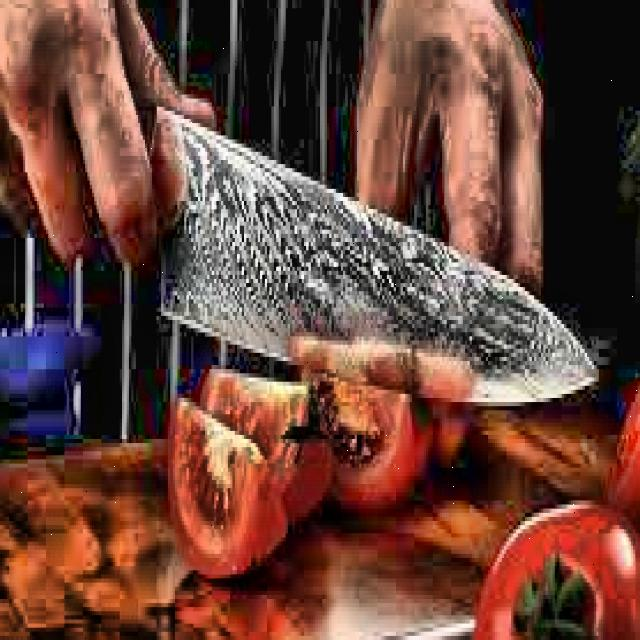knife: (130, 91, 598, 406)
